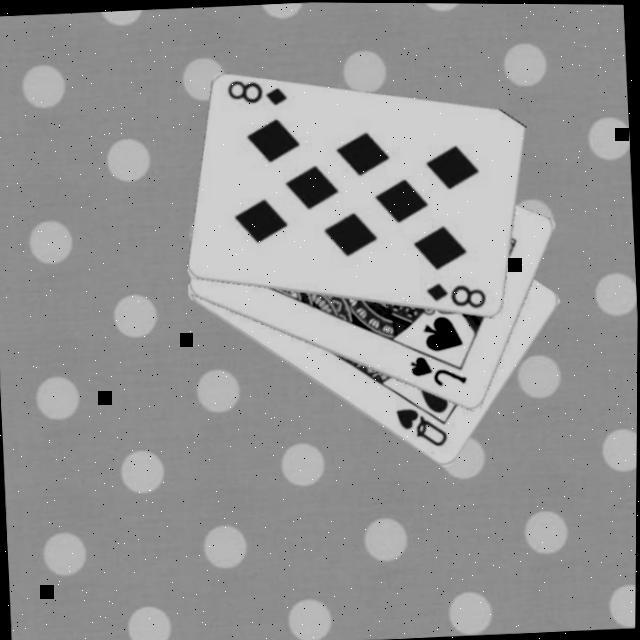8D: (422, 279, 490, 315), (223, 77, 290, 112)
JS: (406, 352, 470, 393)
QH: (391, 404, 451, 453)
